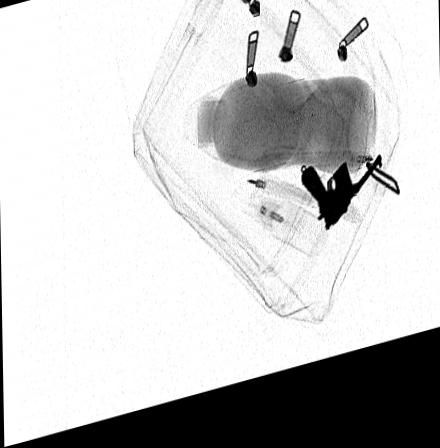Gun: (297, 175, 384, 247)
